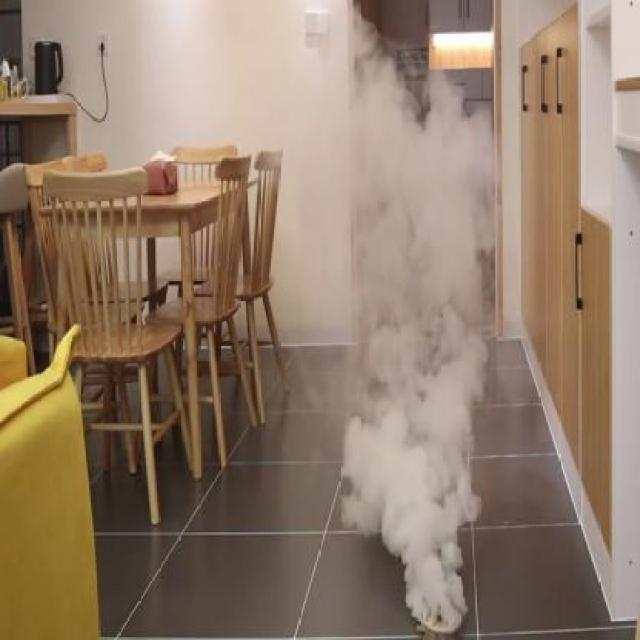smoke: (320, 28, 502, 634)
